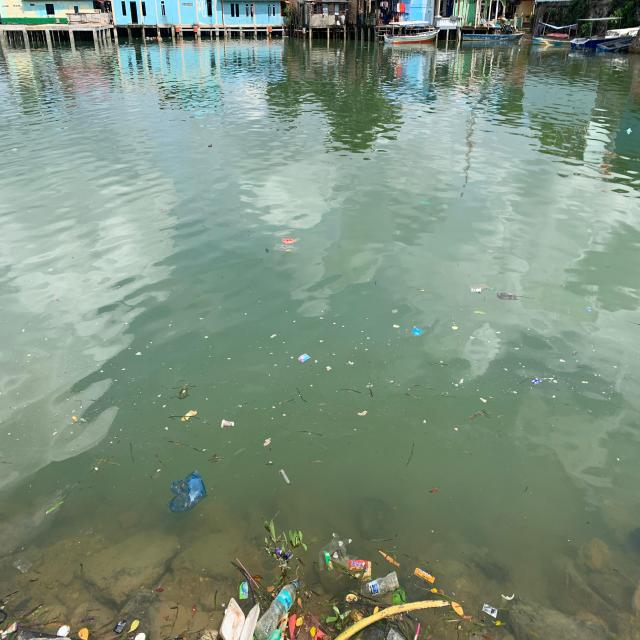Bungkus Makanan: (220, 597, 262, 640), (349, 559, 373, 581), (414, 568, 437, 586), (496, 292, 520, 304), (483, 604, 500, 620), (182, 410, 199, 424)
Bungkus Minuman: (221, 419, 237, 430)
Kantong Plastik: (255, 580, 299, 640), (170, 469, 209, 514), (363, 572, 401, 598), (274, 243, 300, 256), (282, 236, 299, 246)
